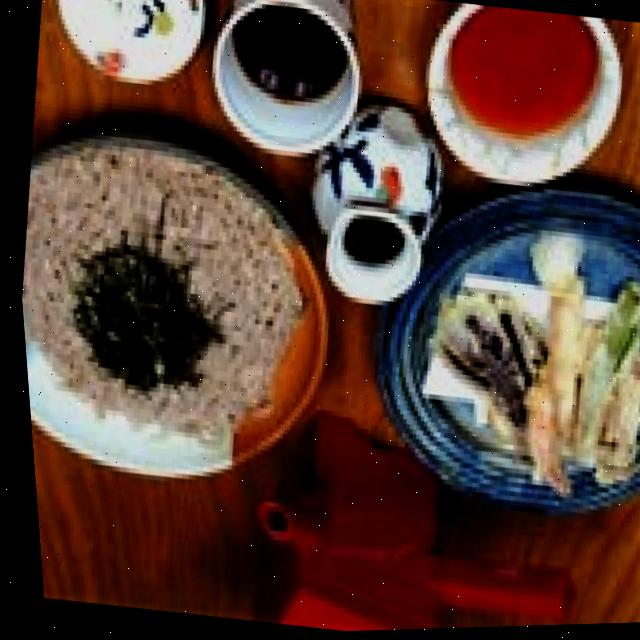面条主食: (7, 120, 357, 510)
